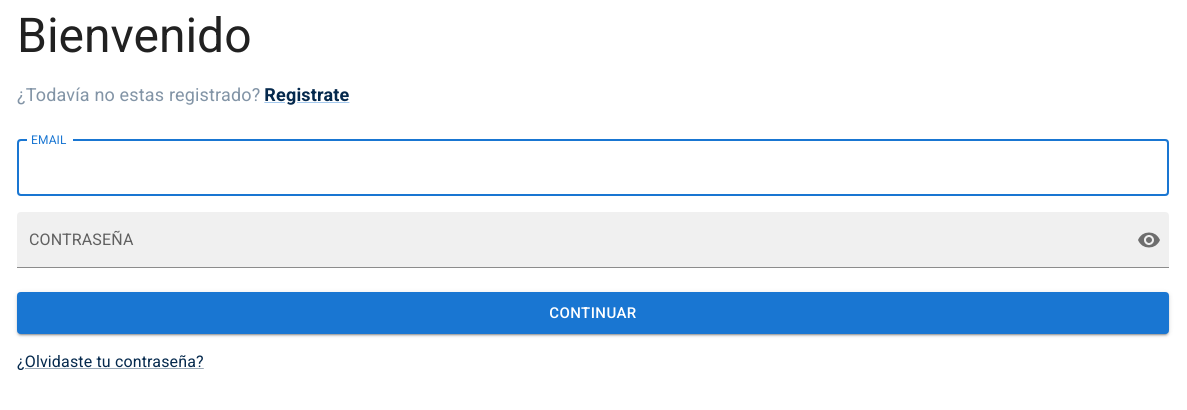
Test: Login Page › show validation error if email is not valid
In the field labelled "EMAIL": x=593, y=168 [17,140,1169,196], type "test@email."
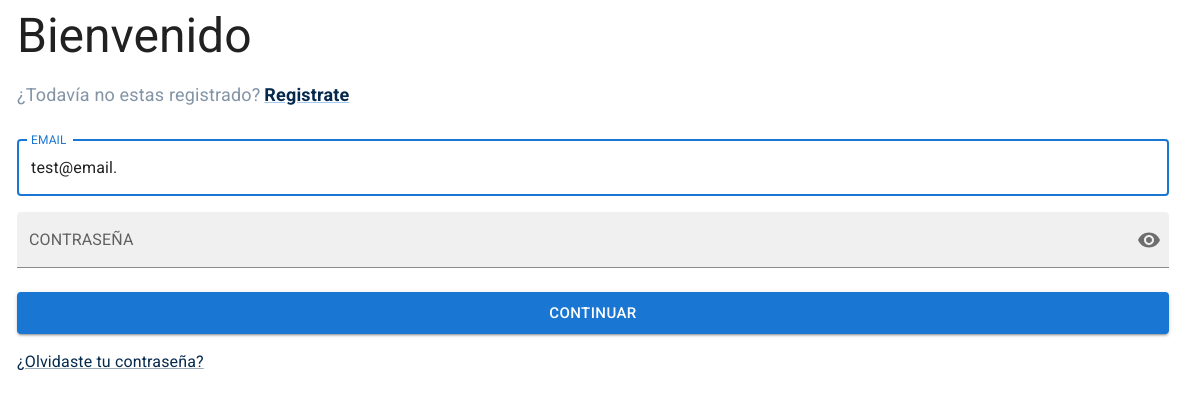
In the password field labelled "CONTRASEÑA": x=569, y=240 [17,212,1121,268], type "password"
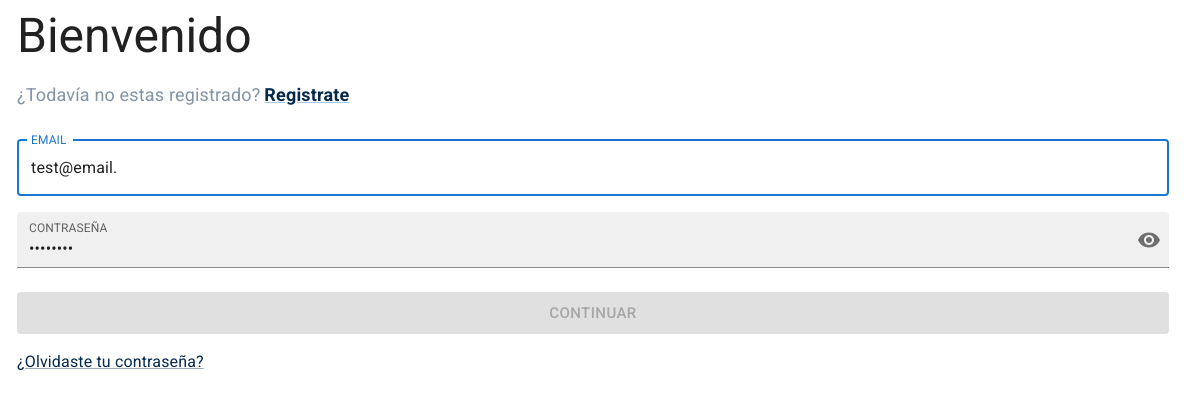
Press Tab
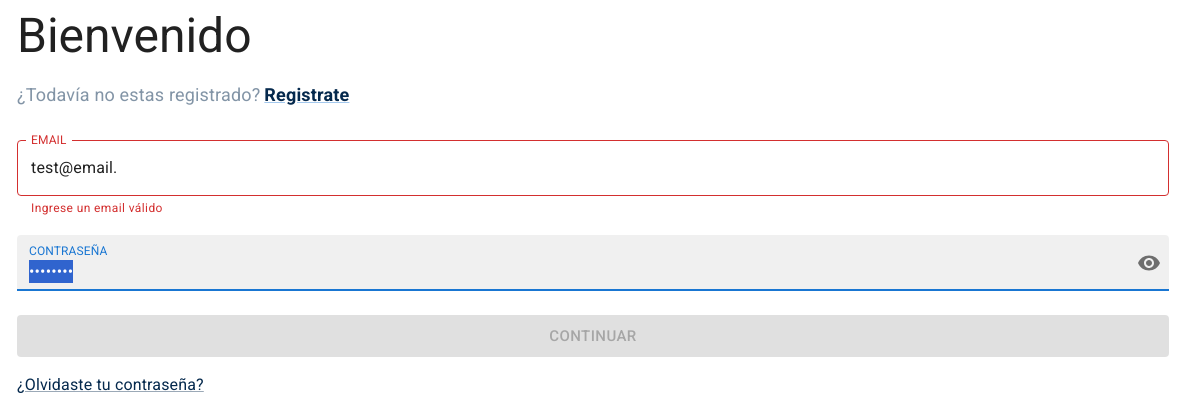
Check: the button "Continuar" is disabled, box [17,315,1169,357]
Check: the text "Ingrese un email válido" is shown, box [31,201,163,215]
